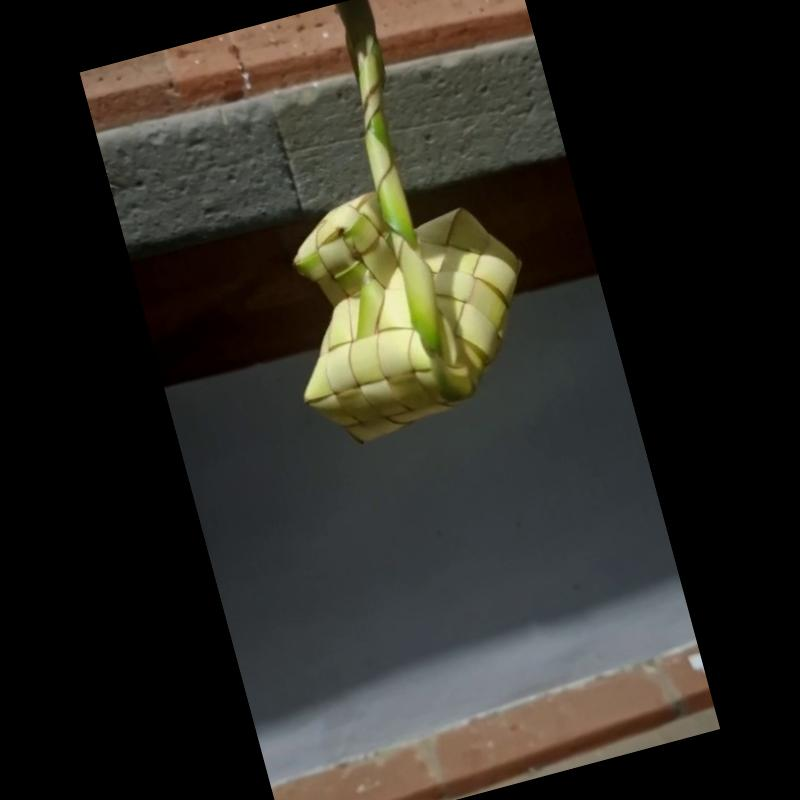Tipat Gong: (294, 0, 520, 445)
